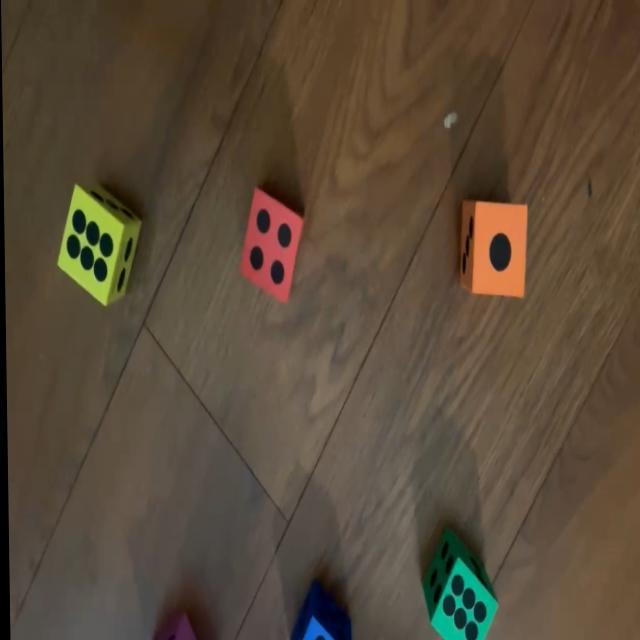blue_block: (289, 583, 349, 640)
red_block: (237, 188, 304, 304)
